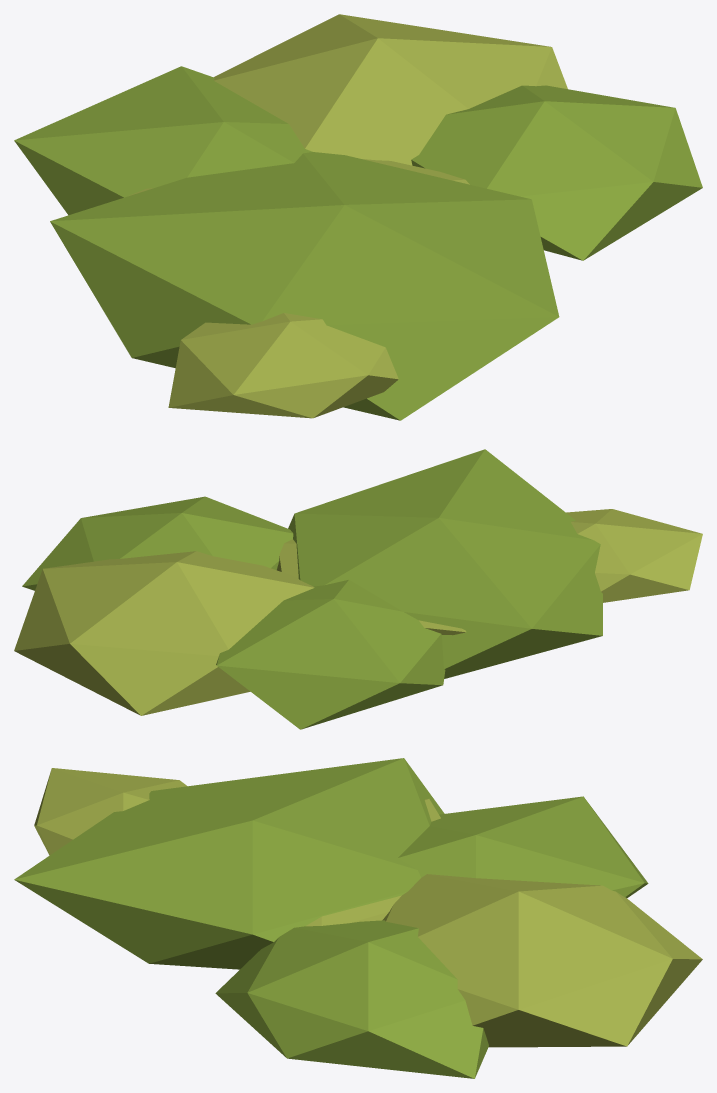
File: mossa_1.glb
3 renders of one model, top to bottom at view 1: azimuth 30°, elevation 25°; view 2: azimuth 150°, elevation 25°; view 3: azimuth 270°, elevation 25°, orthographic. The views are drawn at different scales.
Parts seen in each view (by area): view 1: mossa_1; view 2: mossa_1; view 3: mossa_1.
Boxes of the visible parts, <box> form: mossa_1: <box>14,14,702,420</box>; mossa_1: <box>14,449,702,729</box>; mossa_1: <box>14,758,702,1078</box>.
Bounding box in the file's own units: 1.29 × 0.3063 × 1.33.
